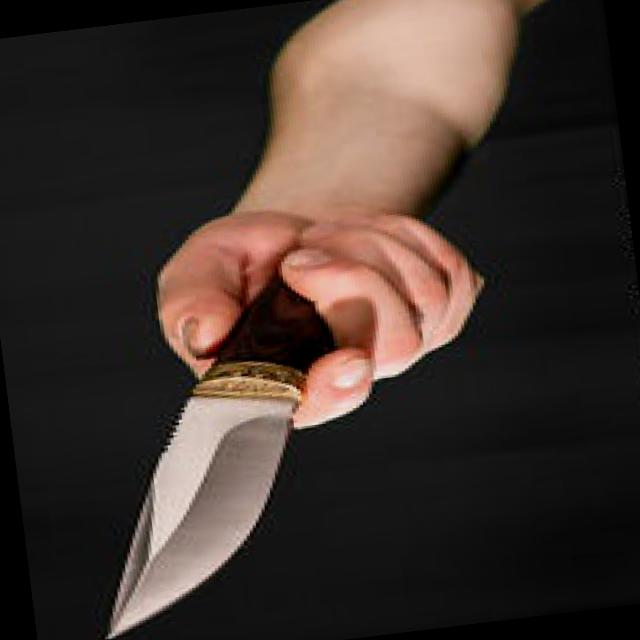knife: (42, 219, 520, 639)
